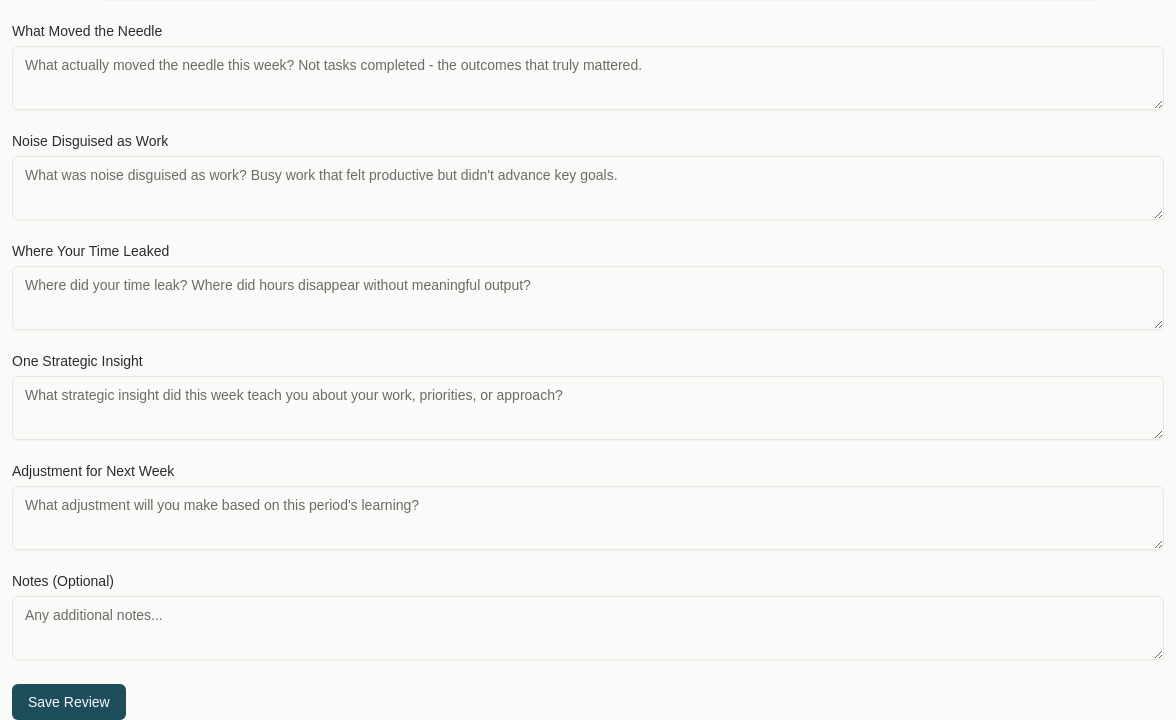
Test: WeeklyForm Component › Form Validation › should show validation errors for missing required fields
(page scrolled)
Click the button "Save Review" at (69, 702), box [12,684,126,719]
(page scrolled)
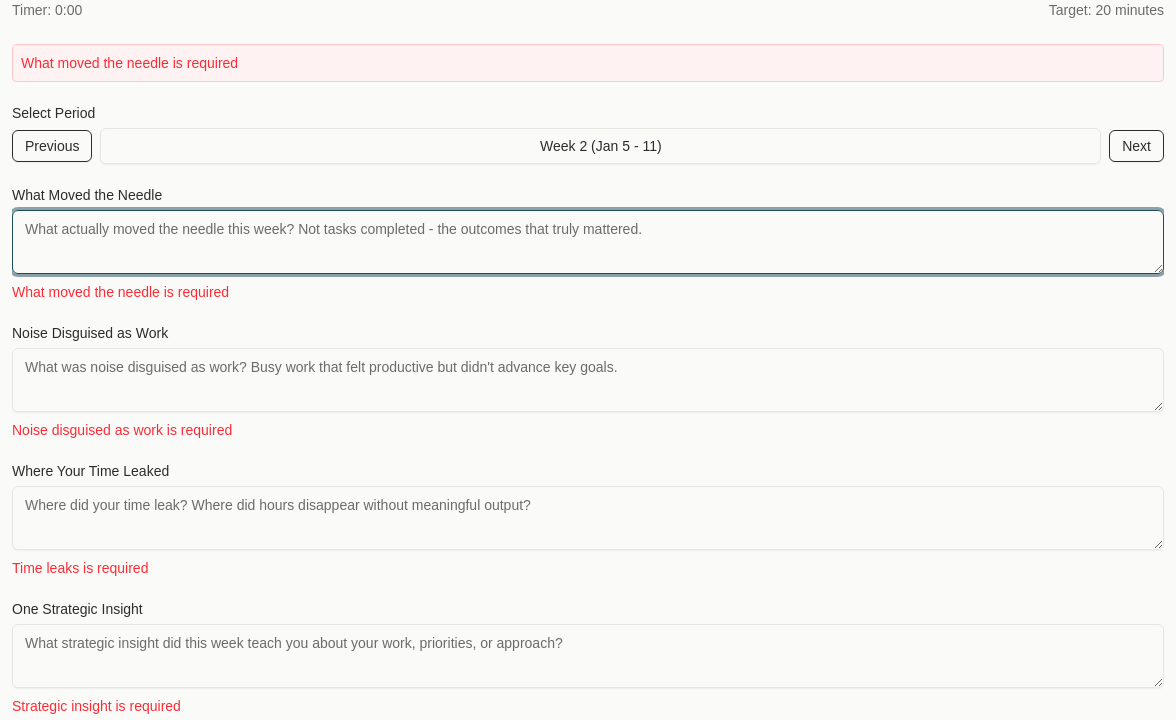
Now the message "What moved the needle is required" is shown, box [12,44,1164,82]
